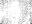person: (1, 11, 6, 17)
